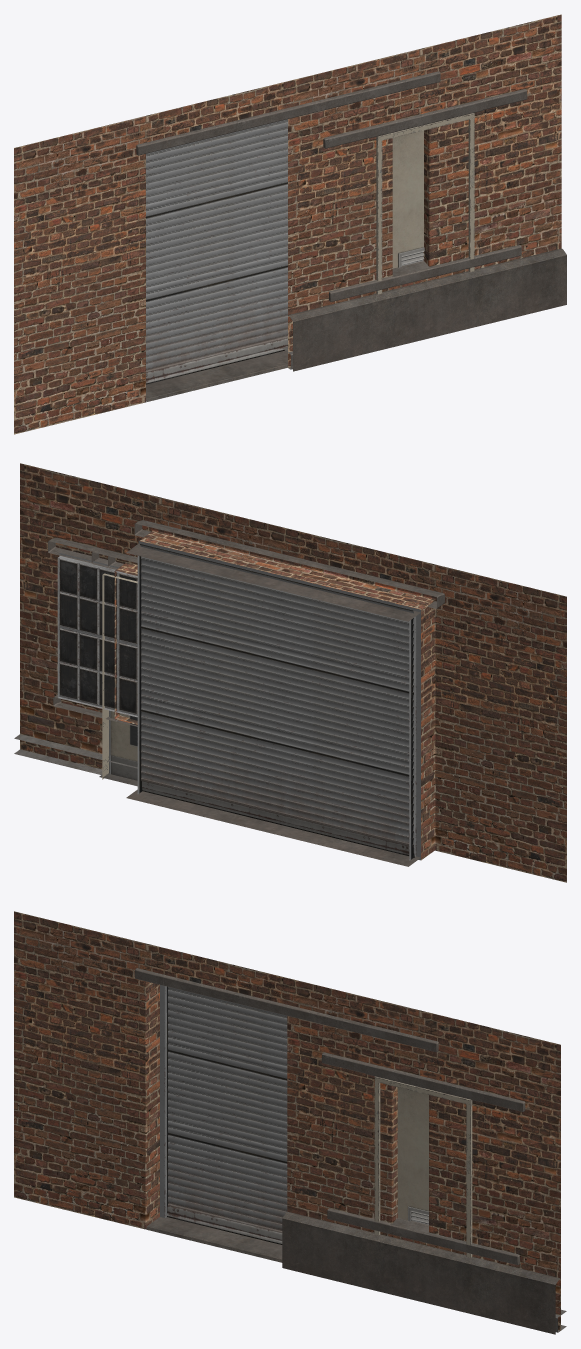
Rendered from modular_factory_facade.glb.
3 renders of one model, top to bottom at view 1: azimuth 30°, elevation 25°; view 2: azimuth 150°, elevation 25°; view 3: azimuth 330°, elevation 25°, orthographic.
Parts seen in each view (by area): view 1: wall_door_garage_centered_01, door_garage_centered_01, wall_window_centered_small_01, wall_door_centered_small_01, dado_standard_standard_01, door_centered_small_01, window_centered_large_01, window_centered_small_01; view 2: door_garage_centered_01, wall_door_garage_centered_01, wall_window_centered_small_01, window_centered_large_01, wall_door_centered_small_01, window_centered_small_01, door_centered_small_01, cornice02_standard_standard_01; view 3: wall_door_garage_centered_01, wall_window_centered_small_01, door_garage_centered_01, wall_door_centered_small_01, dado_standard_standard_01, door_centered_small_01, window_centered_large_01, window_centered_small_01.
Part boxes in pixels (x1,y1,x2,y2): wall_door_garage_centered_01: [14, 18, 561, 434]; door_garage_centered_01: [136, 71, 440, 402]; wall_window_centered_small_01: [288, 21, 561, 367]; wall_door_centered_small_01: [289, 14, 561, 313]; dado_standard_standard_01: [288, 248, 566, 371]; door_centered_small_01: [369, 103, 483, 294]; window_centered_large_01: [323, 89, 527, 301]; window_centered_small_01: [385, 104, 466, 286]; door_garage_centered_01: [126, 520, 444, 866]; wall_door_garage_centered_01: [20, 474, 566, 882]; wall_window_centered_small_01: [20, 463, 289, 768]; window_centered_large_01: [48, 537, 137, 721]; wall_door_centered_small_01: [20, 464, 274, 765]; window_centered_small_01: [108, 552, 137, 726]; door_centered_small_01: [91, 552, 137, 786]; cornice02_standard_standard_01: [14, 734, 137, 774]; wall_door_garage_centered_01: [14, 911, 560, 1295]; wall_window_centered_small_01: [287, 978, 560, 1297]; door_garage_centered_01: [135, 968, 438, 1262]; wall_door_centered_small_01: [288, 979, 560, 1330]; dado_standard_standard_01: [282, 1211, 560, 1334]; door_centered_small_01: [365, 1068, 479, 1257]; window_centered_large_01: [321, 1052, 525, 1265]; window_centered_small_01: [381, 1067, 463, 1249].
Bounding box in the file's own units: 6 × 3 × 0.6.
Materials: 6 (6 with a texture image).
